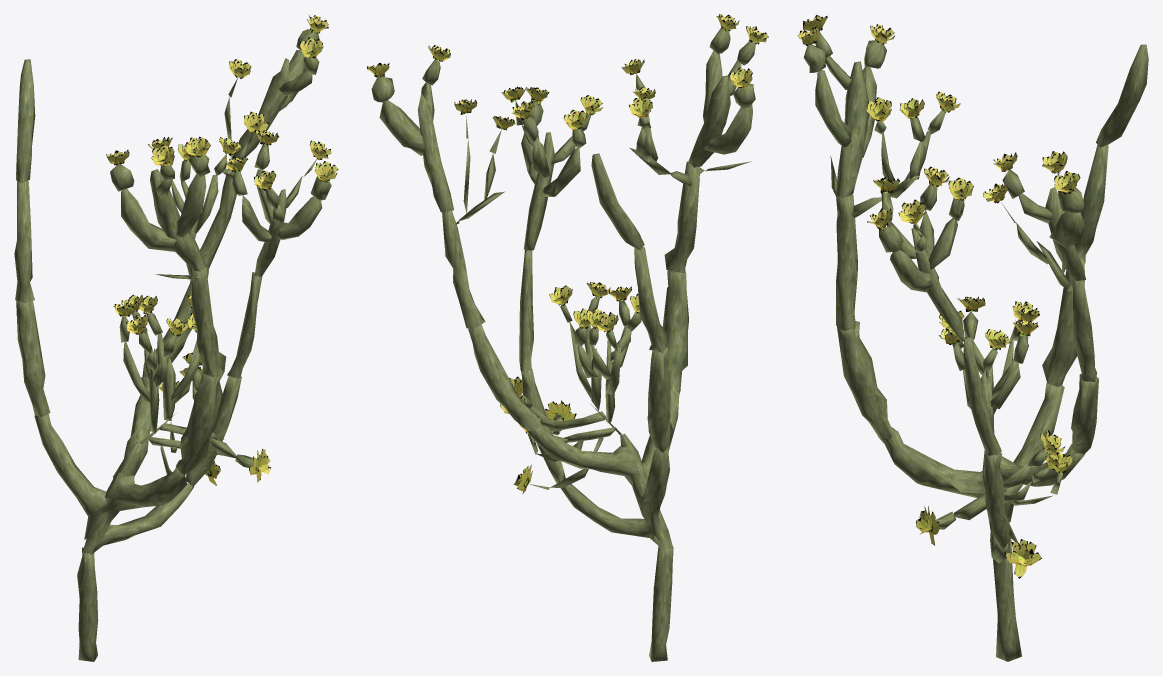
File: cholla.glb
3 views of the same model, side by side, from view 1: azimuth 30°, elevation 25°; view 2: azimuth 150°, elevation 25°; view 3: azimuth 270°, elevation 25° (orthographic). The views are drawn at different scales.
Parts seen in each view (by area): view 1: USCD Cholla Tall 03; view 2: USCD Cholla Tall 03; view 3: USCD Cholla Tall 03.
Part boxes in pixels (x1=…): USCD Cholla Tall 03: x1=14, y1=14, x2=338, y2=661; USCD Cholla Tall 03: x1=367, y1=14, x2=768, y2=661; USCD Cholla Tall 03: x1=797, y1=15, x2=1148, y2=661.
Size of the model in its own units: 0.8325 by 1.5 by 0.7481.
3 materials, 3 textured.
